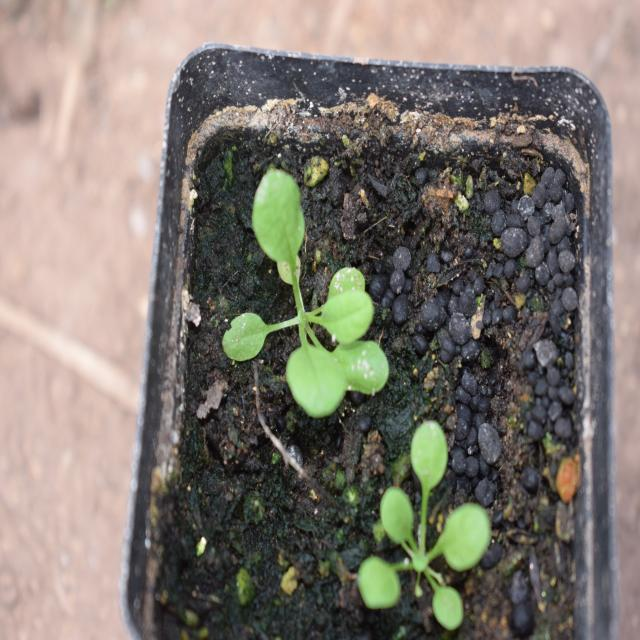Shepherd_Purse: (226, 171, 386, 432), (368, 425, 494, 628)
